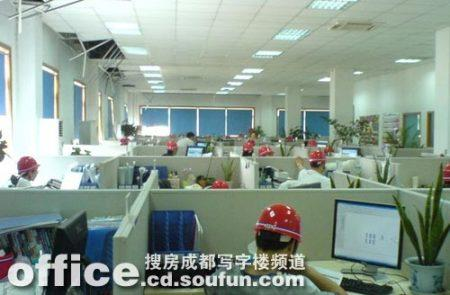helmet: (255, 203, 305, 241), (18, 155, 39, 175), (308, 152, 327, 164), (258, 147, 276, 158), (242, 142, 255, 157), (213, 180, 227, 192), (166, 140, 178, 153), (306, 140, 317, 150), (445, 163, 450, 184), (325, 147, 335, 157)
